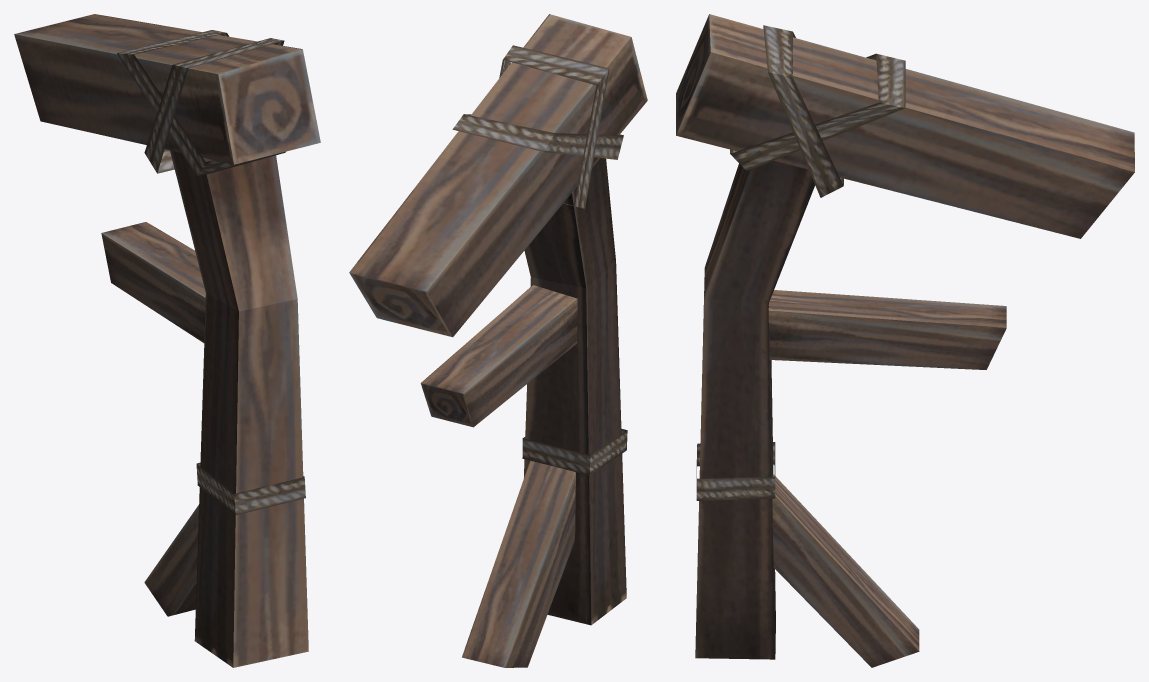
File: mine_wall_support_02.fbx
3 views of the same model, side by side, from view 1: azimuth 30°, elevation 25°; view 2: azimuth 150°, elevation 25°; view 3: azimuth 270°, elevation 25° (orthographic). The views are drawn at different scales.
Visible parts, largest first — view 1: obj0.088; view 2: obj0.088; view 3: obj0.088.
Boxes of the visible parts, x1=… form: obj0.088: x1=14, y1=14, x2=320, y2=667; obj0.088: x1=349, y1=14, x2=647, y2=667; obj0.088: x1=676, y1=14, x2=1134, y2=667.
Size of the model in its own units: 0.9807 by 5.63 by 3.76.
